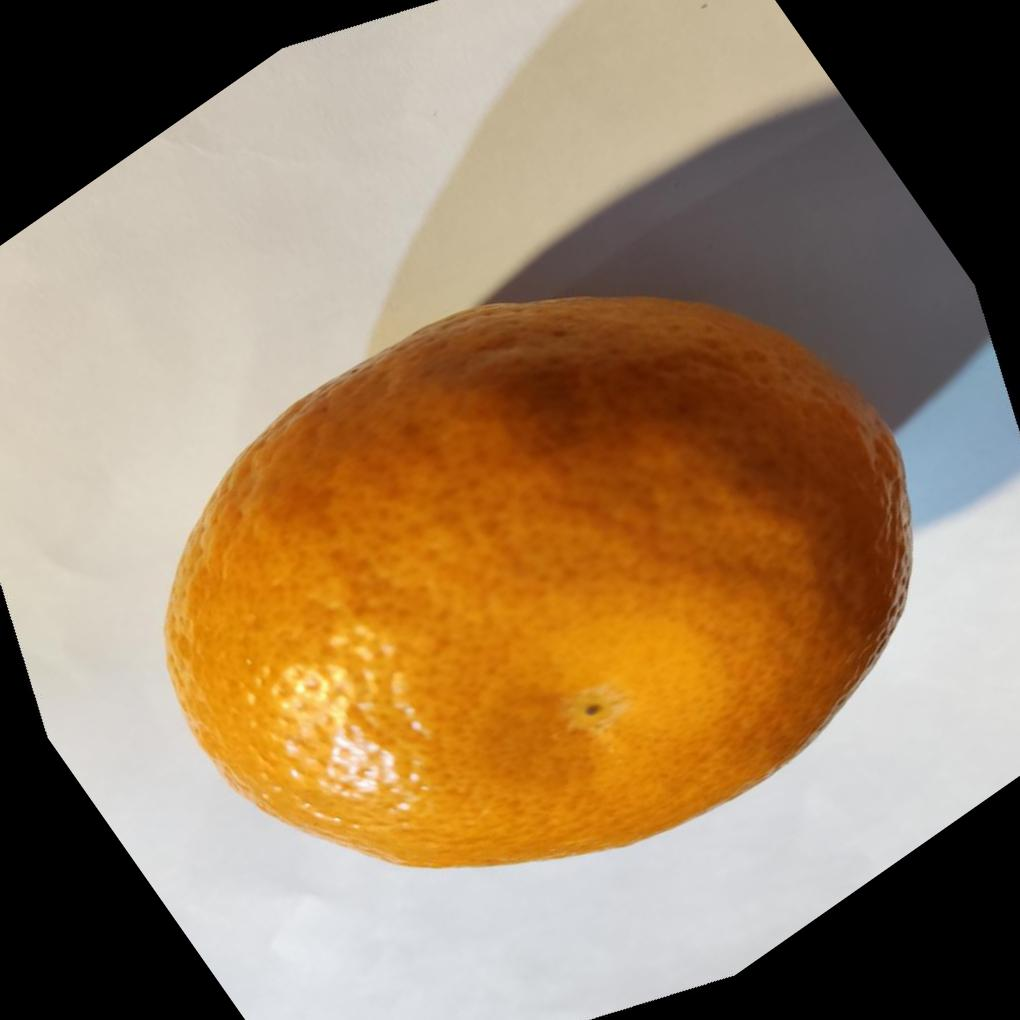FreshGuava: (159, 289, 913, 869)
